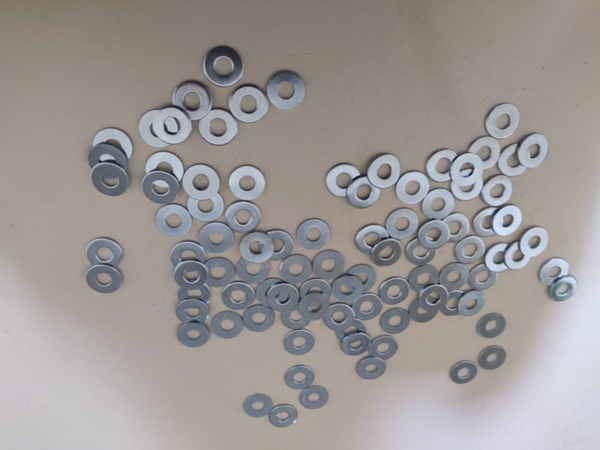circle: (203, 45, 246, 88), (172, 80, 213, 122), (139, 107, 179, 148), (197, 108, 239, 147), (230, 84, 270, 124), (267, 70, 307, 110), (93, 128, 133, 165), (182, 164, 222, 201), (92, 161, 131, 198), (156, 106, 193, 145), (88, 145, 129, 180), (143, 169, 181, 205), (229, 165, 267, 201), (486, 102, 522, 140), (347, 173, 383, 210), (326, 162, 362, 199), (146, 153, 184, 188), (497, 141, 532, 179), (468, 134, 502, 172), (396, 170, 432, 205), (426, 148, 461, 184), (170, 241, 208, 274), (189, 189, 225, 223), (278, 252, 314, 286), (236, 253, 272, 287), (368, 153, 402, 189), (451, 167, 485, 203), (87, 237, 124, 270), (156, 205, 193, 238), (239, 231, 276, 264), (227, 200, 262, 234), (468, 260, 503, 294), (297, 218, 333, 251), (518, 132, 550, 169), (422, 188, 456, 222), (451, 152, 485, 186), (203, 256, 236, 291), (256, 277, 291, 310), (174, 259, 210, 291), (87, 263, 124, 294), (519, 225, 552, 259), (200, 222, 235, 254), (176, 280, 213, 310), (438, 261, 471, 294), (222, 281, 256, 313), (323, 301, 357, 333), (355, 222, 389, 254), (409, 264, 443, 296), (482, 174, 514, 208), (212, 310, 245, 342), (483, 242, 516, 274), (387, 208, 420, 240), (454, 235, 487, 267), (472, 207, 505, 239), (261, 230, 295, 261), (441, 211, 472, 245), (313, 250, 346, 281), (331, 274, 364, 305), (493, 204, 524, 237), (283, 328, 317, 358), (242, 304, 277, 333), (344, 264, 377, 294), (539, 257, 572, 287), (350, 293, 384, 322), (175, 298, 210, 326), (406, 236, 438, 266), (177, 321, 211, 349), (372, 237, 402, 268), (299, 292, 331, 321), (368, 334, 400, 363), (438, 288, 470, 317), (476, 313, 509, 341), (407, 295, 440, 323), (335, 318, 369, 345), (505, 240, 534, 271), (268, 284, 300, 312), (379, 277, 411, 305), (284, 365, 317, 392), (281, 302, 312, 330), (548, 276, 580, 303), (419, 283, 448, 312), (458, 289, 487, 318), (243, 393, 275, 419), (341, 332, 372, 358), (356, 356, 388, 381), (478, 346, 507, 372), (269, 404, 299, 429), (300, 385, 330, 410), (450, 361, 480, 386), (381, 309, 411, 334)
